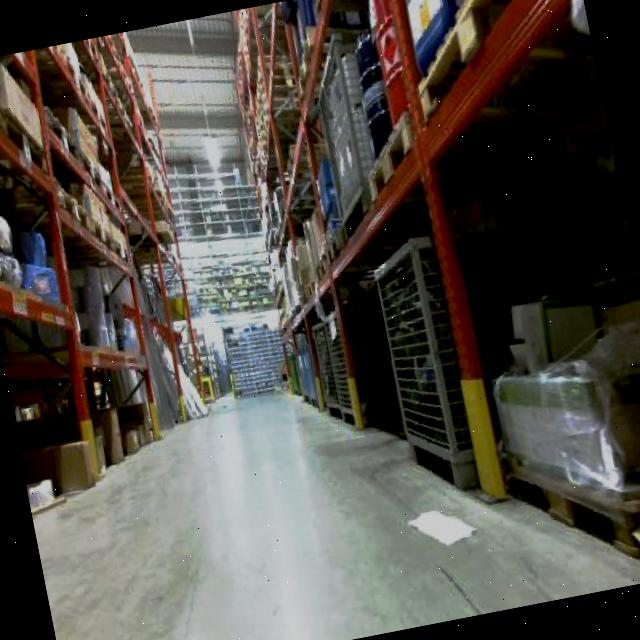ground: (16, 310, 640, 640)
pallet: (214, 0, 640, 533), (0, 28, 235, 541), (469, 265, 640, 604), (365, 231, 482, 499)
